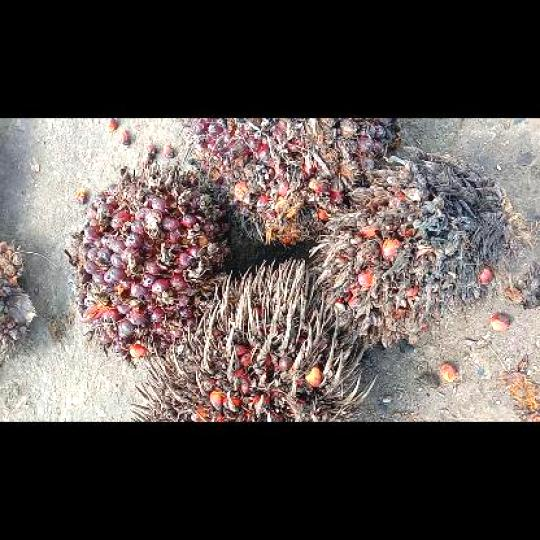masak: (64, 162, 232, 366), (186, 118, 398, 244)
terlalu masak: (308, 148, 531, 348), (130, 258, 376, 420)
